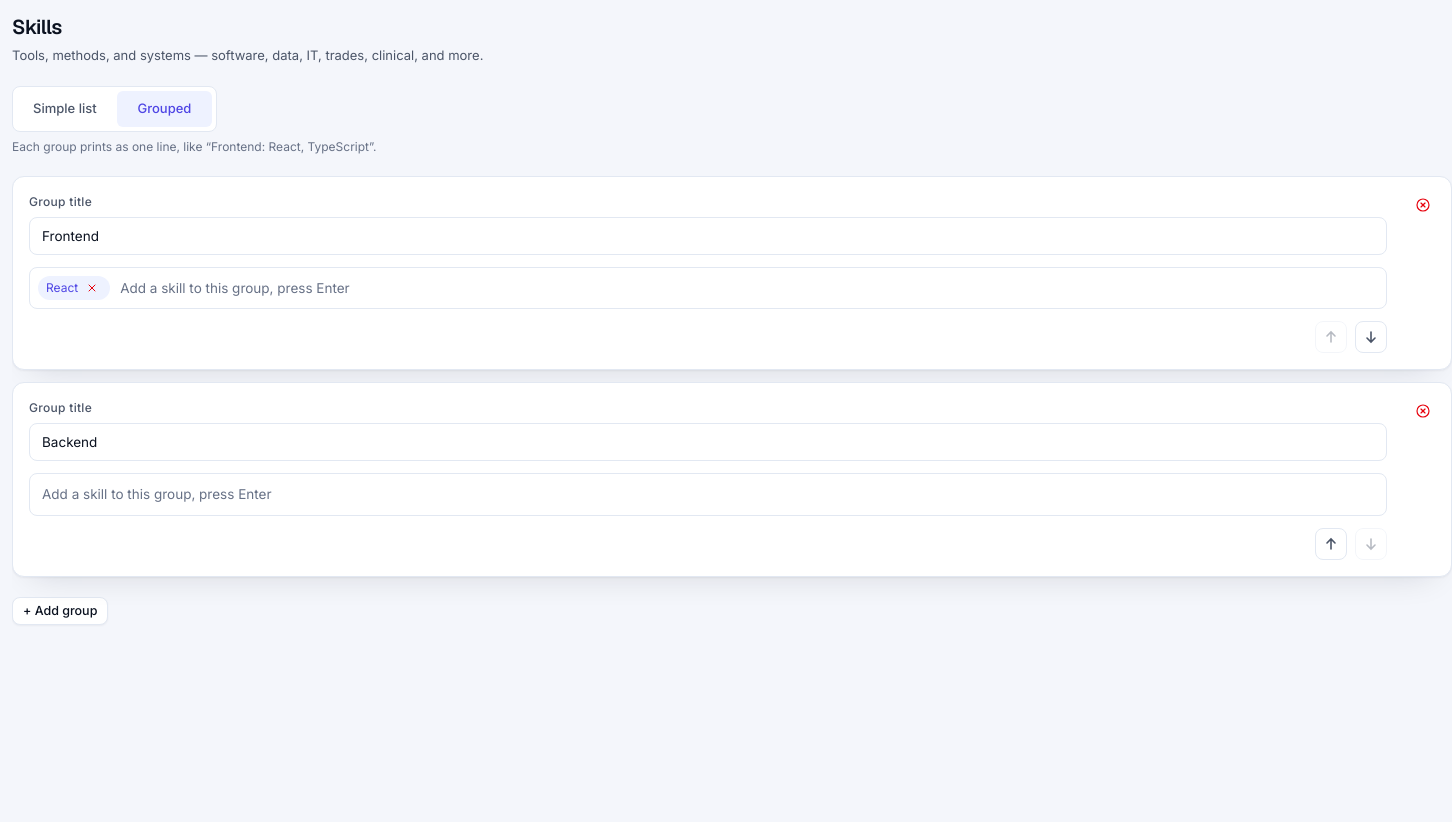
Test: SkillsForm — grouped editor › refuses a skill that is already in another group, with a message
Type "react" into the 2nd dropdown with placeholder "Add a skill to this group, press Enter".
click(708, 494); type("react")  # box [38,482,1378,507]
Then press Enter
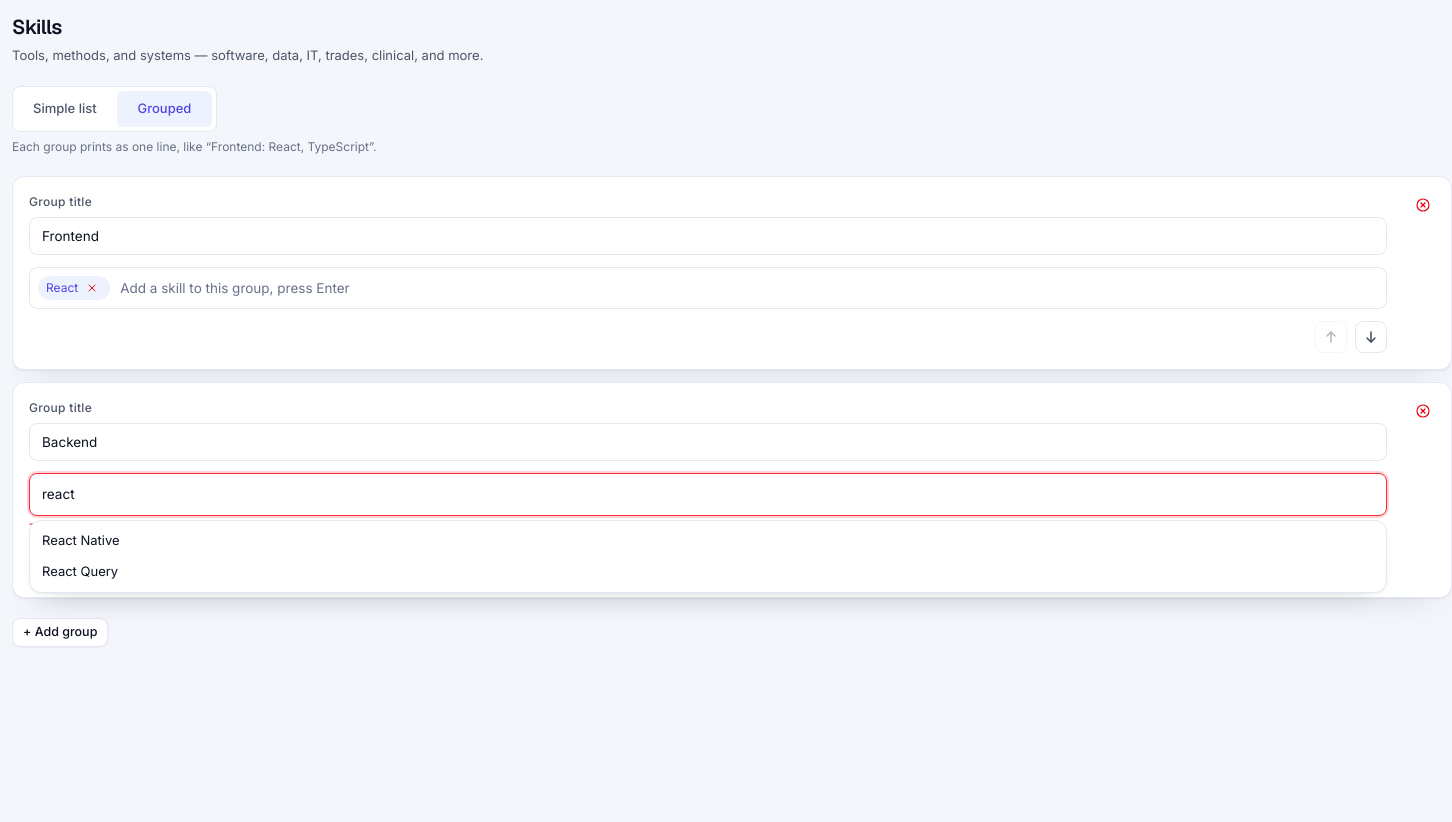
Result: the text "That skill is already in another group." is shown at [29,520,229,534]
